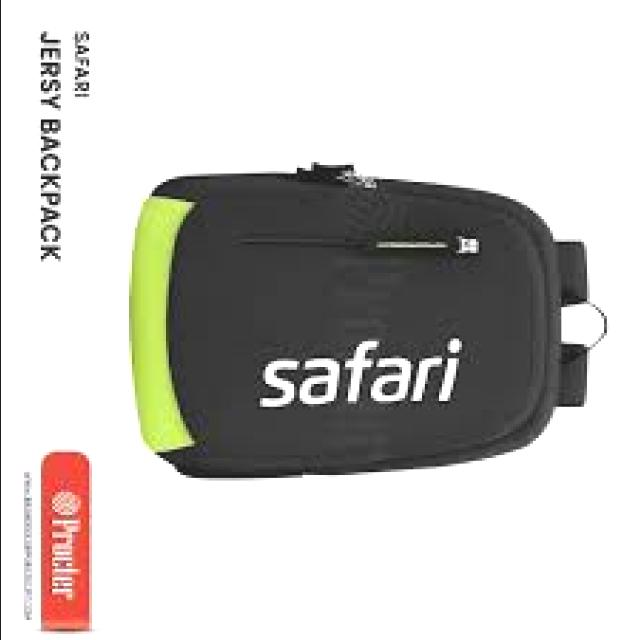backpack: (132, 160, 610, 482)
